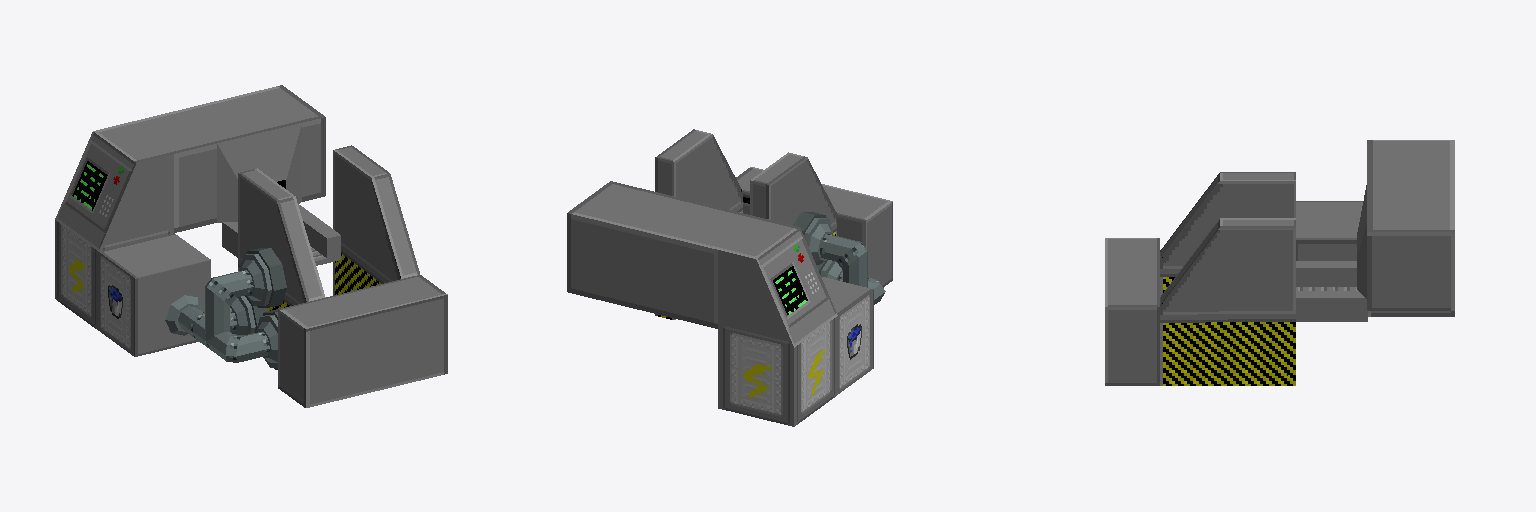
3 renders of one model, left to right at view 1: azimuth 30°, elevation 25°; view 2: azimuth 150°, elevation 25°; view 3: azimuth 270°, elevation 25°, orthographic.
Parts seen in each view (by area): view 1: Hull; view 2: Hull; view 3: Hull.
Part boxes in pixels (left/top/right/bottom): Hull: left=55, top=85, right=447, bottom=407; Hull: left=567, top=129, right=892, bottom=426; Hull: left=1105, top=140, right=1454, bottom=385.
Size of the model in its own units: 3 by 2 by 4.
1 materials, 1 textured.